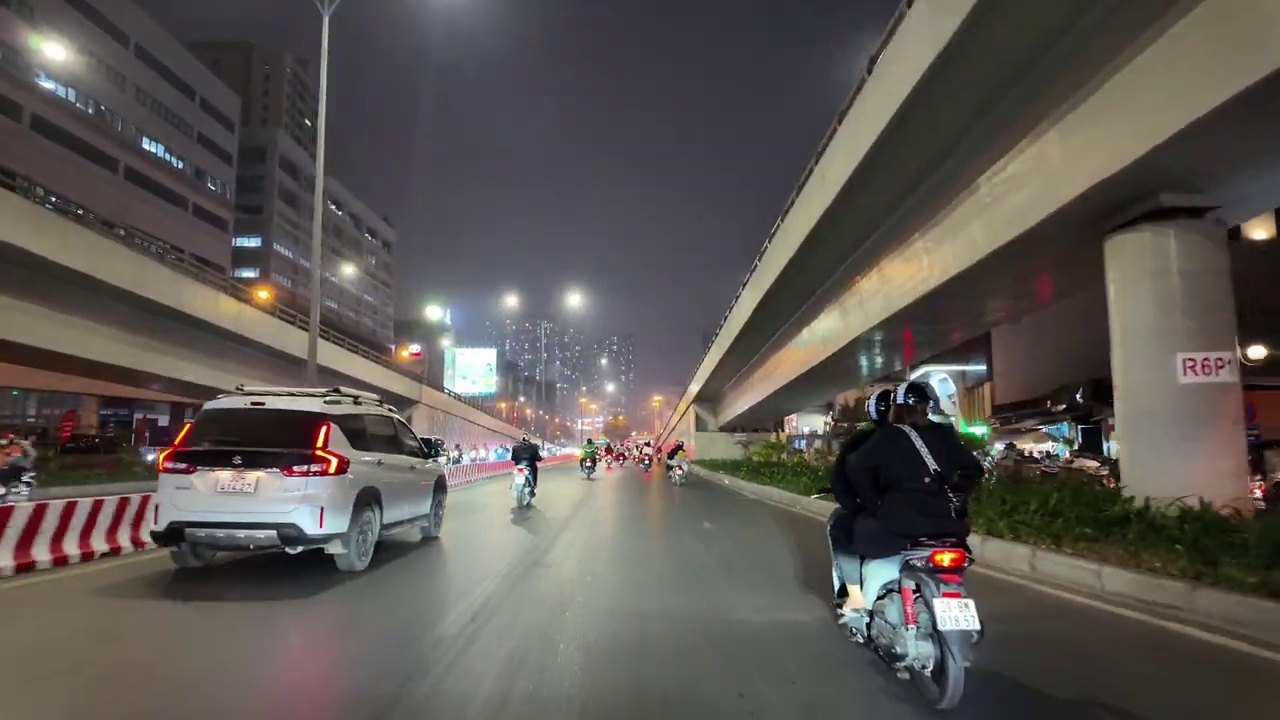acesa: (25, 27, 82, 76), (560, 286, 589, 315), (419, 299, 447, 327), (496, 289, 523, 315), (334, 259, 362, 284)
